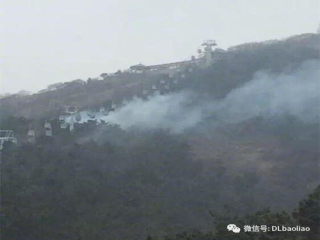smoke: (77, 73, 317, 145)
